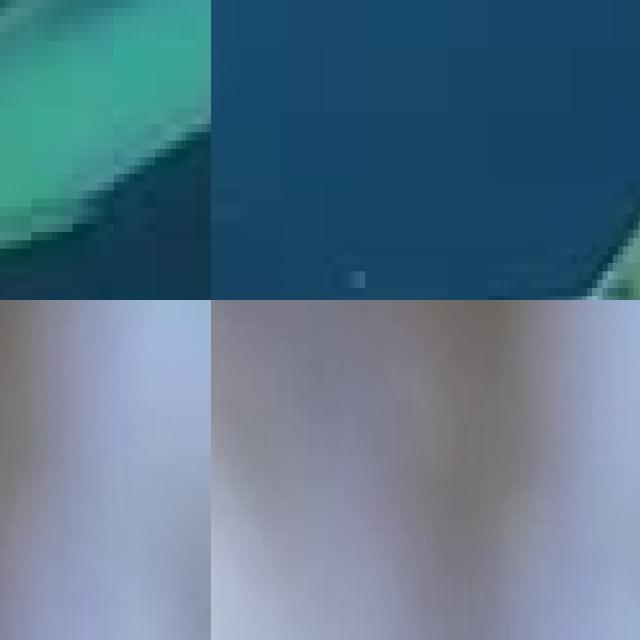fish: (0, 0, 211, 300)
